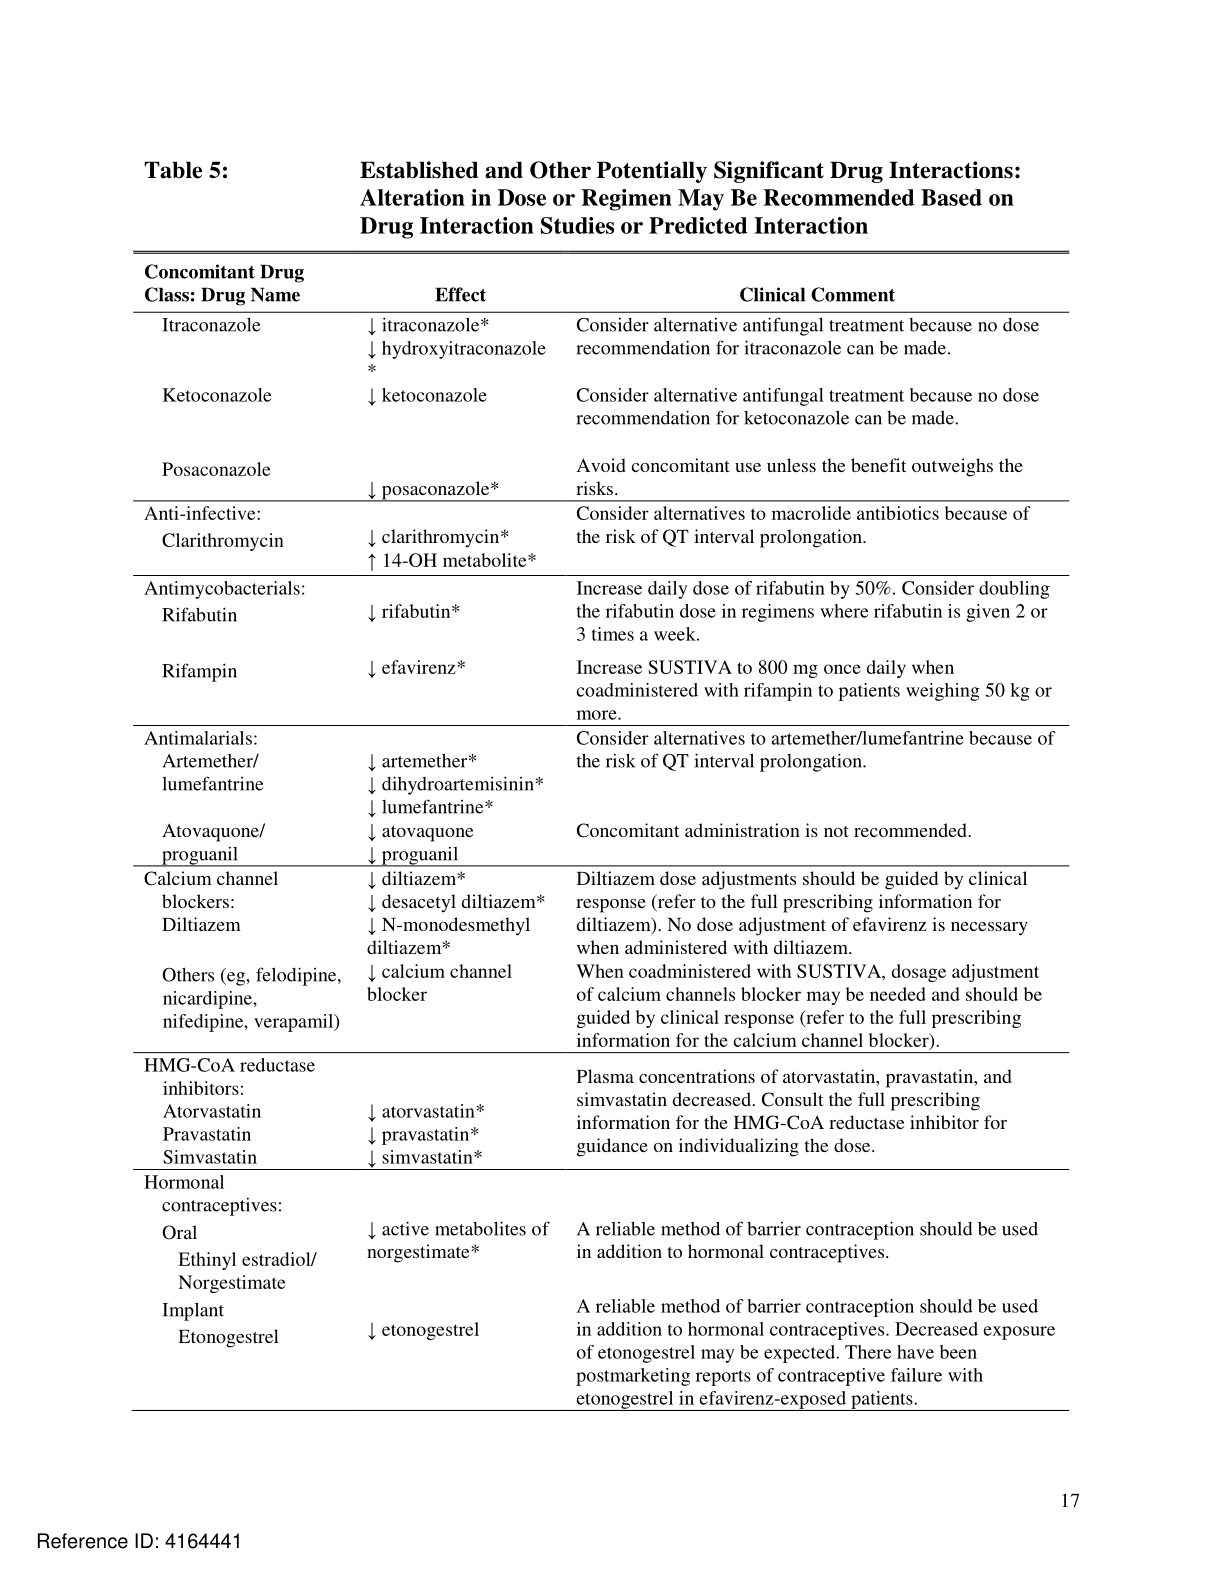partial_lined: (130, 247, 1074, 1414)
